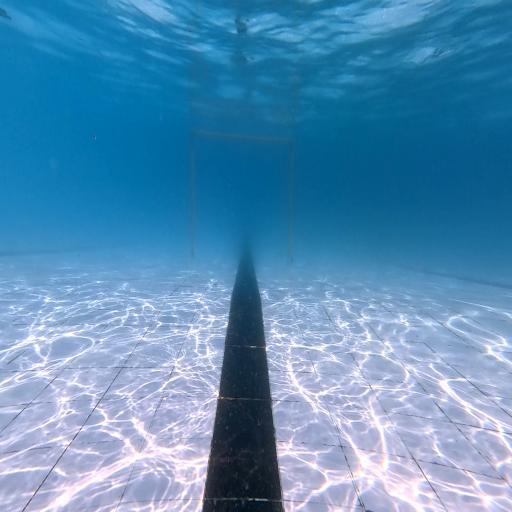gate: (189, 130, 294, 263)
